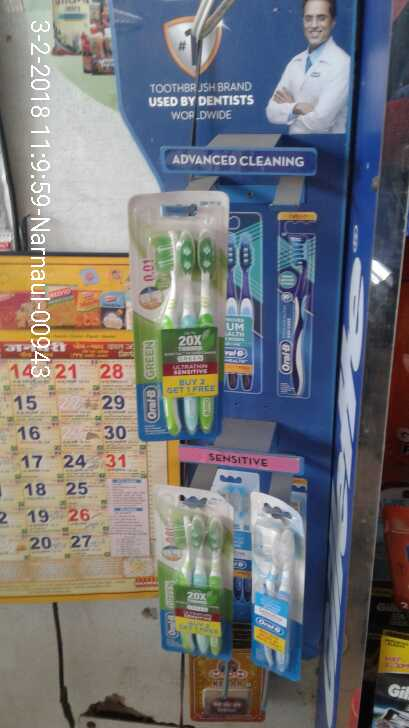oralb: (141, 225, 218, 439), (243, 513, 304, 677), (165, 492, 226, 654)
